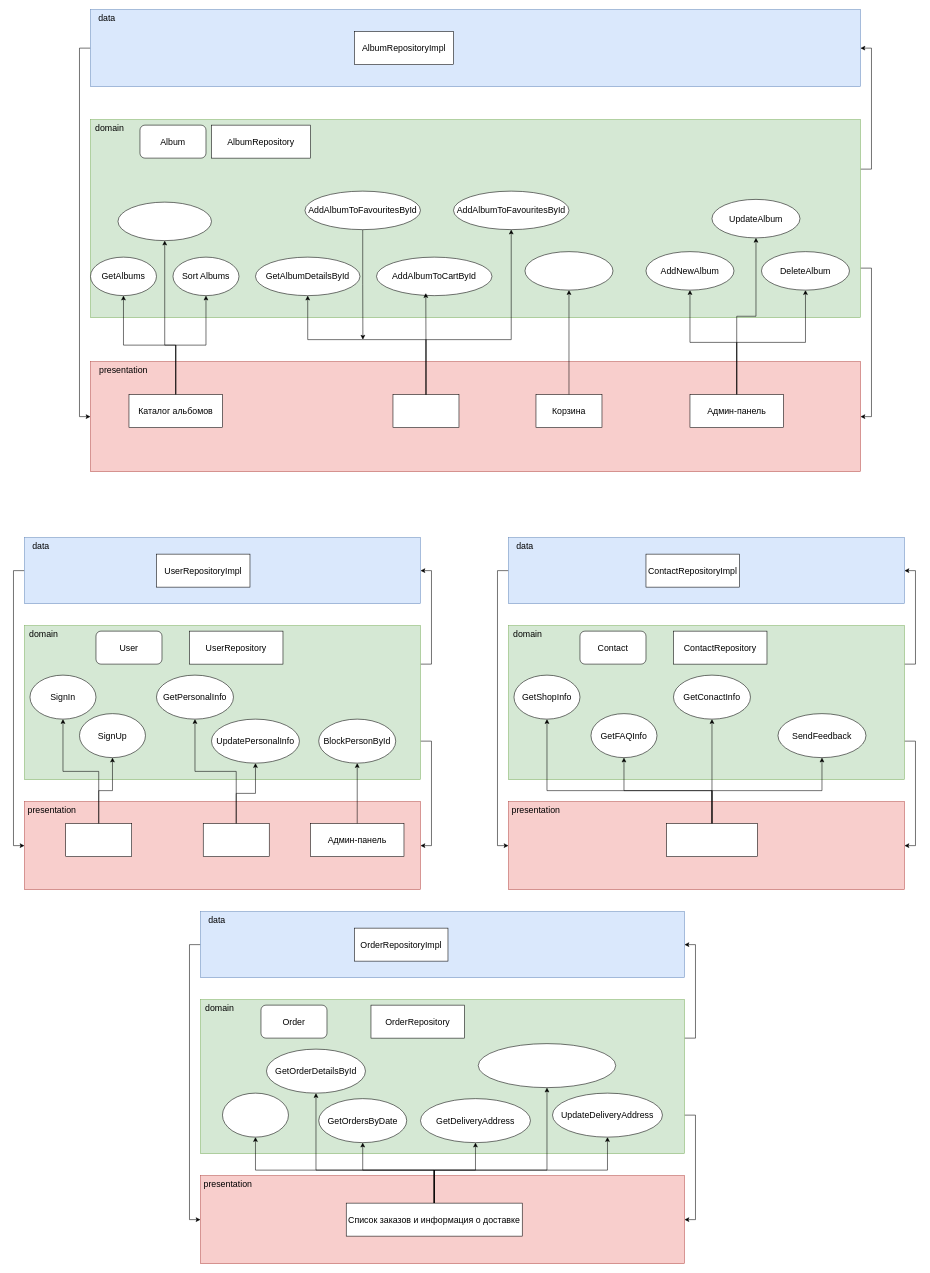
This 930x1273 diagram has some shape labels left out. Each missing label, with the box of its shape:
GetAvailableDeliveryAddresses: (478, 1043, 616, 1088)
GetCartAlbums: (524, 251, 613, 290)
GetFavouriteAlbums: (117, 202, 211, 241)
GetOrders: (222, 1093, 288, 1137)
Альбом: (392, 394, 459, 428)
Личный кабинет: (203, 823, 269, 857)
Страница входа: (65, 823, 132, 857)
Страница с контактами: (666, 823, 757, 857)
